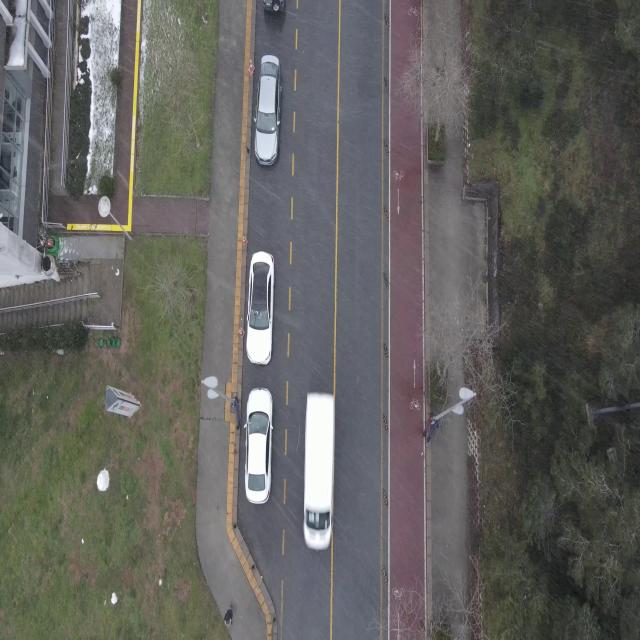p3rson: (223, 601, 234, 626)
